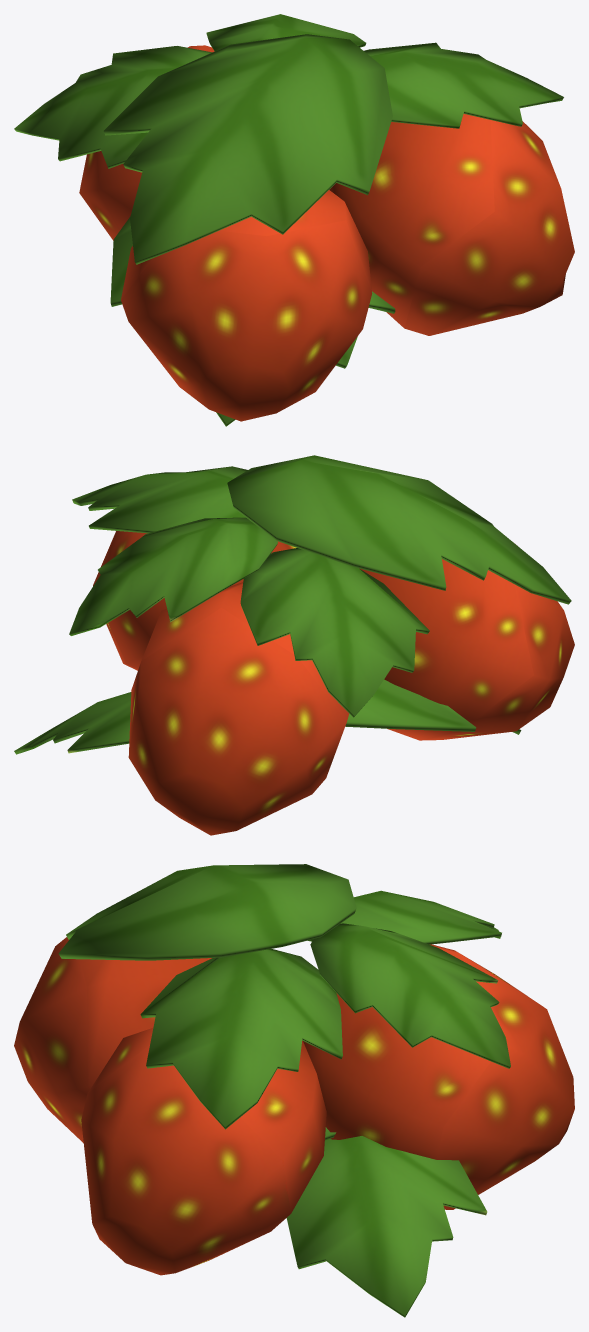
File: Strawberry_all_form.fbx
3 views of the same model, one above another, from view 1: azimuth 30°, elevation 25°; view 2: azimuth 150°, elevation 25°; view 3: azimuth 270°, elevation 25° (orthographic). The views are drawn at different scales.
Visible parts, largest first — view 1: Night_Strawbery, Child_Strawbery; view 2: Night_Strawbery, Child_Strawbery; view 3: Night_Strawbery, Child_Strawbery.
Part boxes in pixels (x1,y1,x2,y2): Night_Strawbery: (14,14,574,421); Child_Strawbery: (110,217,395,426); Night_Strawbery: (69,455,574,835); Child_Strawbery: (14,679,521,754); Night_Strawbery: (14,864,574,1275); Child_Strawbery: (286,1127,487,1317).
Bounding box in the file's own units: 1.3 × 0.8011 × 1.27.
